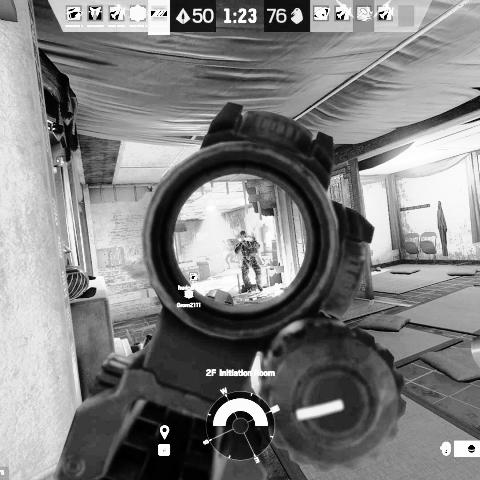Character: (235, 230, 264, 294), (221, 238, 236, 270)
Friend_label: (178, 272, 208, 290), (176, 289, 201, 309)
Head: (240, 230, 247, 238), (222, 239, 227, 243)
